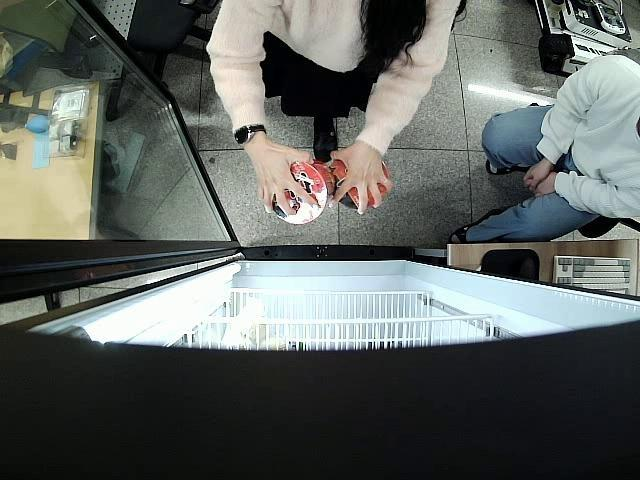01_ShinRamen_L: (268, 162, 327, 222), (329, 154, 388, 210)
